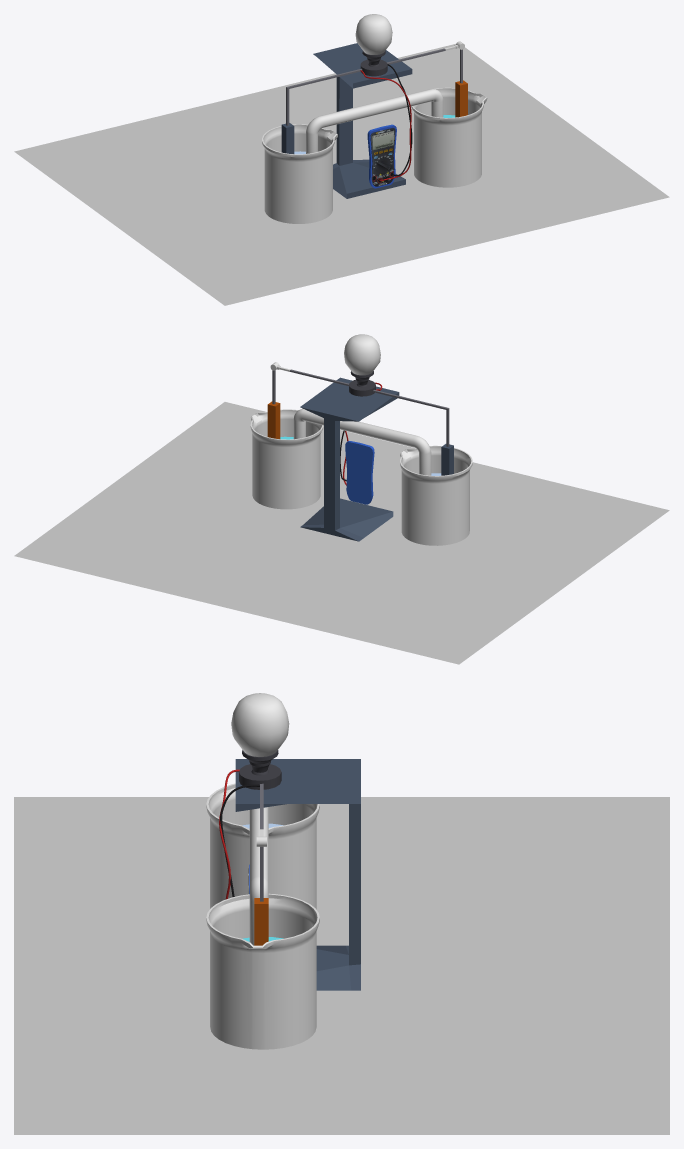
File: Electrolysis.fbx
3 renders of one model, top to bottom at view 1: azimuth 30°, elevation 25°; view 2: azimuth 150°, elevation 25°; view 3: azimuth 270°, elevation 25°, orthographic. The views are drawn at different scales.
Visible parts, largest first — view 1: Plane, Cylinder.001, Cylinder, Cube.003, Cylinder.002, multimeter, Cylinder.006, Cube.002, Cylinder.003, BezierCurve, Cube; view 2: Plane, Cube.003, Cylinder.001, Cylinder, Cylinder.002, multimeter, Cylinder.006, Cube.002, Cylinder.003, Cube; view 3: Plane, Cylinder, Cube.003, Cylinder.001, Cylinder.006, Cylinder.002, Cylinder.003, Cube.
Part boxes in pixels (x1,y1,x2,y2): Plane: [14, 44, 669, 305]; Cylinder.001: [262, 124, 337, 223]; Cylinder: [411, 87, 487, 187]; Cube.003: [313, 43, 412, 198]; Cylinder.002: [306, 89, 443, 153]; multimeter: [367, 124, 396, 188]; Cylinder.006: [355, 14, 392, 54]; Cube.002: [286, 48, 462, 125]; Cylinder.003: [360, 50, 387, 76]; BezierCurve: [360, 64, 412, 180]; Cube: [455, 80, 467, 117]; Plane: [14, 402, 669, 664]; Cube.003: [300, 377, 399, 541]; Cylinder.001: [400, 445, 472, 545]; Cylinder: [250, 409, 323, 509]; Cylinder.002: [293, 408, 431, 475]; multimeter: [345, 441, 374, 504]; Cylinder.006: [344, 334, 380, 375]; Cube.002: [272, 369, 449, 446]; Cylinder.003: [349, 371, 375, 396]; Cube: [267, 401, 280, 438]; Plane: [14, 797, 669, 1134]; Cylinder: [206, 893, 319, 1049]; Cube.003: [235, 759, 360, 990]; Cylinder.001: [206, 783, 319, 909]; Cylinder.006: [231, 693, 289, 756]; Cylinder.002: [249, 807, 268, 945]; Cylinder.003: [239, 750, 281, 789]; Cube: [254, 898, 268, 945].
Bounding box in the file's own units: 1503 × 566 × 1233.
